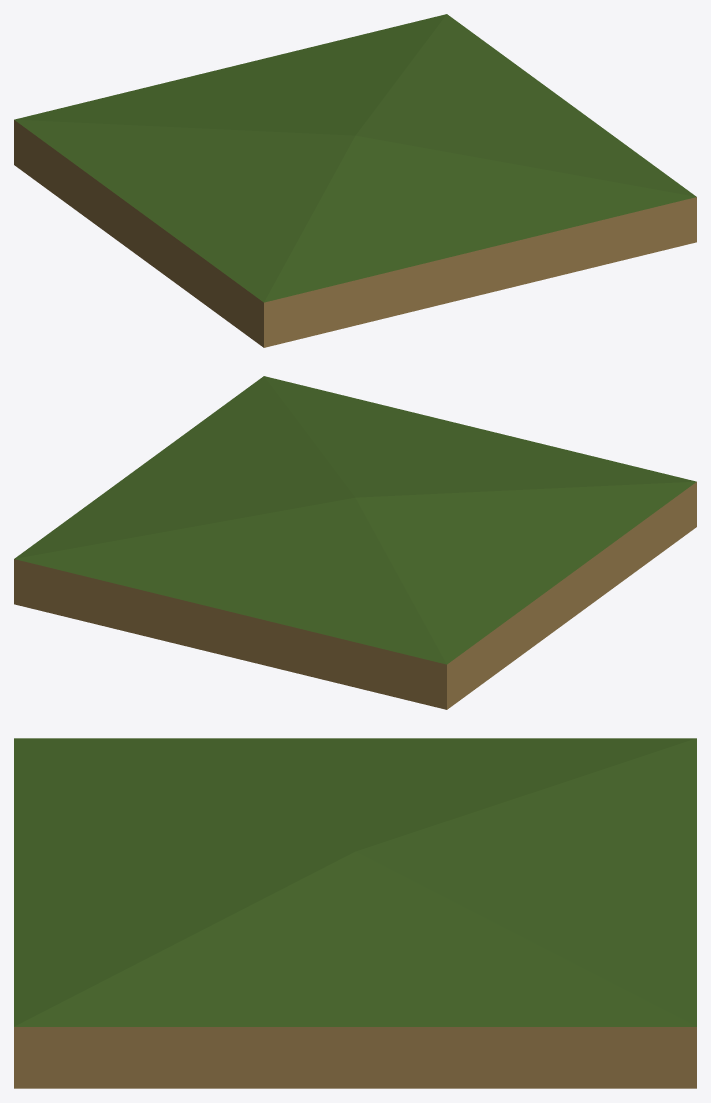
Rendered from Terrain_Modular_Tiles_Grass_Dirt_Lump_01.fbx.
3 renders of one model, top to bottom at view 1: azimuth 30°, elevation 25°; view 2: azimuth 150°, elevation 25°; view 3: azimuth 270°, elevation 25°, orthographic. The views are drawn at different scales.
Visible parts, largest first — view 1: Terrain_Modular_Tiles_Grass_Dirt_Lump_01; view 2: Terrain_Modular_Tiles_Grass_Dirt_Lump_01; view 3: Terrain_Modular_Tiles_Grass_Dirt_Lump_01.
Part boxes in pixels (<box>): Terrain_Modular_Tiles_Grass_Dirt_Lump_01: <box>14,14,696,347</box>; Terrain_Modular_Tiles_Grass_Dirt_Lump_01: <box>14,376,696,709</box>; Terrain_Modular_Tiles_Grass_Dirt_Lump_01: <box>14,738,696,1088</box>.
Size of the model in its own units: 3000 by 450 by 3000.
